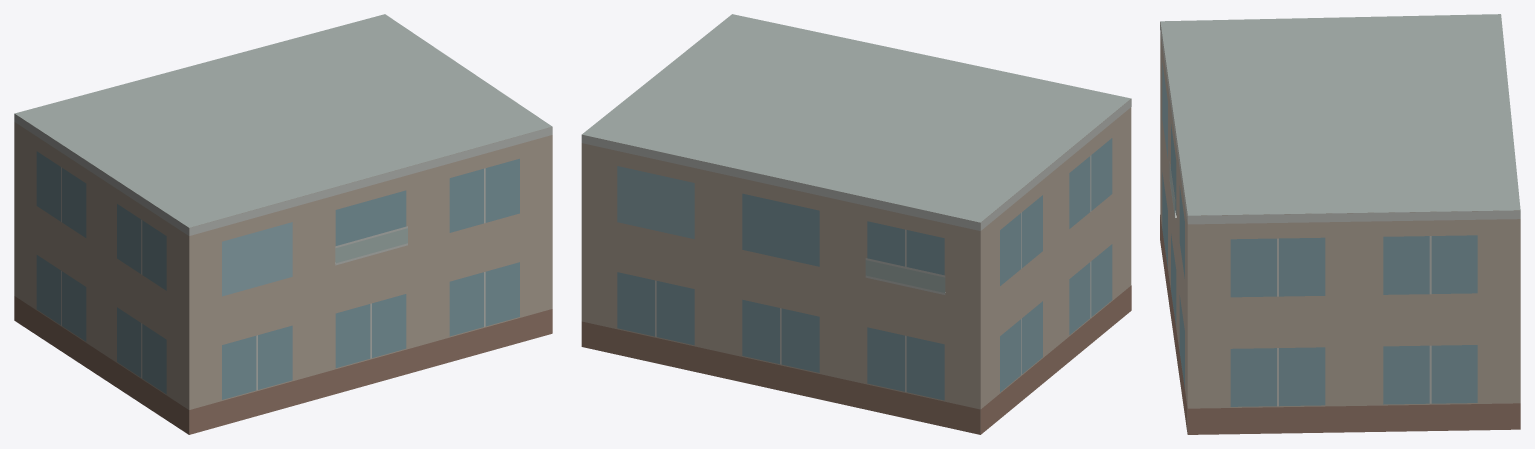
Rendered from survey-upis-32662687.glb.
3 views of the same model, side by side, from view 1: azimuth 30°, elevation 25°; view 2: azimuth 150°, elevation 25°; view 3: azimuth 270°, elevation 25° (orthographic). The views are drawn at different scales.
Visible parts, largest first — view 1: survey-upis-32662687.tmp; view 2: survey-upis-32662687.tmp; view 3: survey-upis-32662687.tmp.
Part boxes in pixels (<box>): survey-upis-32662687.tmp: <box>14,14,552,434</box>; survey-upis-32662687.tmp: <box>581,14,1131,434</box>; survey-upis-32662687.tmp: <box>1160,14,1520,434</box>.
Bounding box in the file's own units: 12.04 × 6.1 × 9.1.
